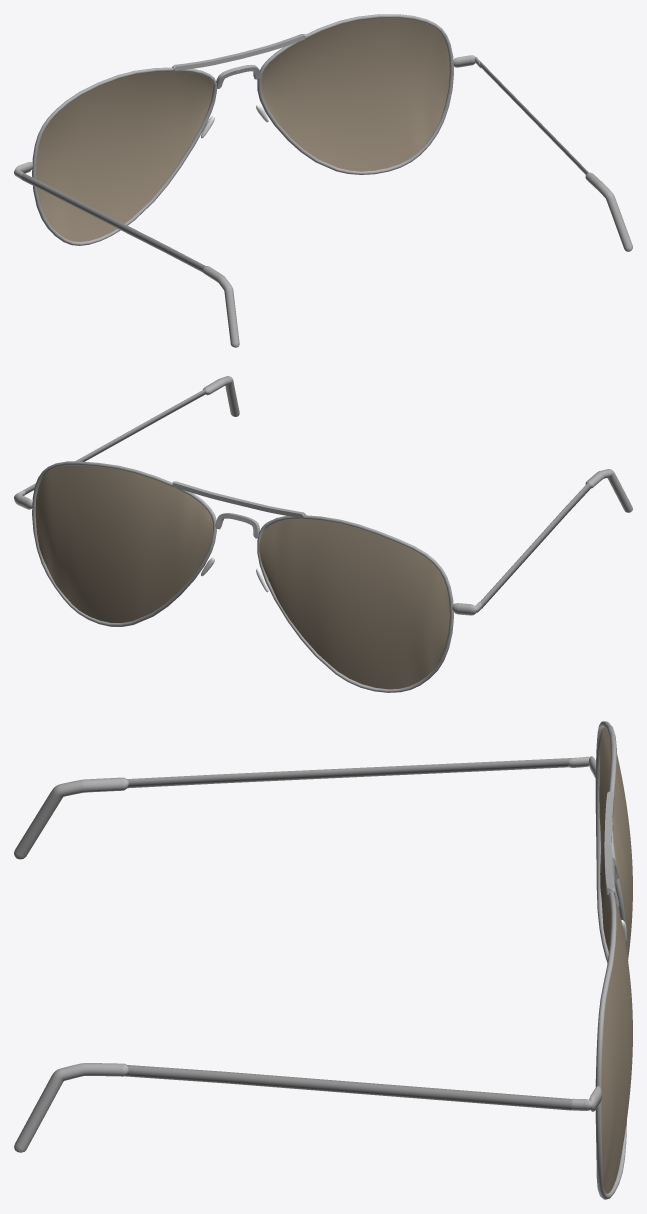
File: aviator.fbx
3 views of the same model, one above another, from view 1: azimuth 30°, elevation 25°; view 2: azimuth 150°, elevation 25°; view 3: azimuth 270°, elevation 25° (orthographic). The views are drawn at different scales.
Parts seen in each view (by area): view 1: asset; view 2: asset; view 3: asset.
Part boxes in pixels (box(x1,y1,x2,y2)): asset: box(14, 14, 632, 347); asset: box(14, 376, 632, 692); asset: box(14, 721, 632, 1199).
Bounding box in the file's own units: 17.52 × 5.86 × 13.24.
